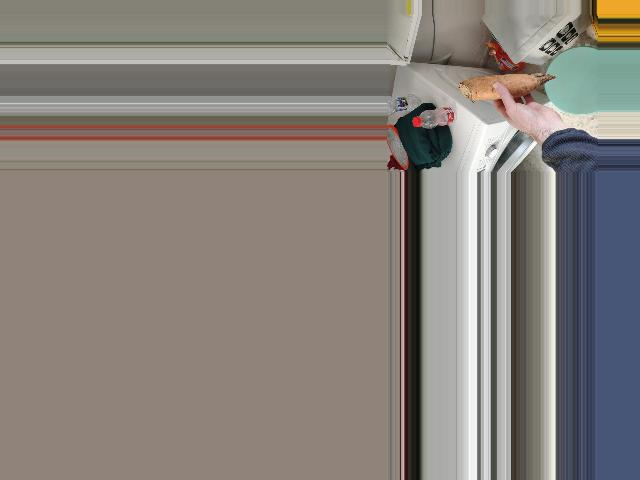sweet_potato: (454, 77, 549, 103)
